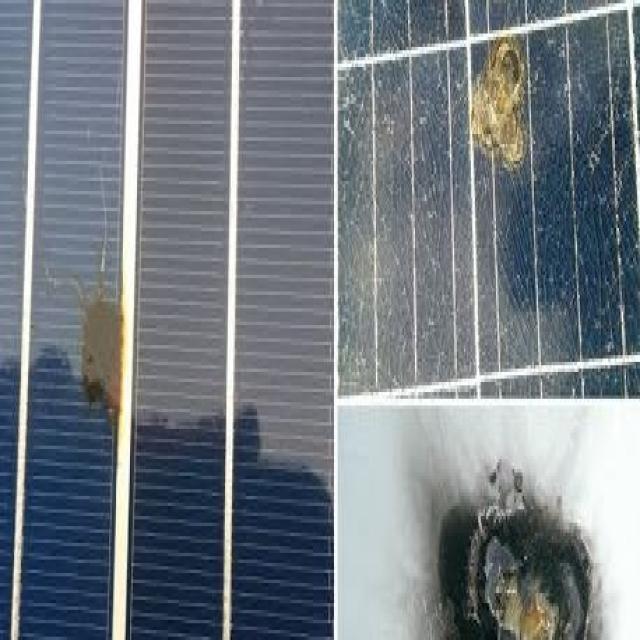electrical damage: (402, 432, 633, 640), (52, 201, 166, 481), (412, 2, 572, 181)
